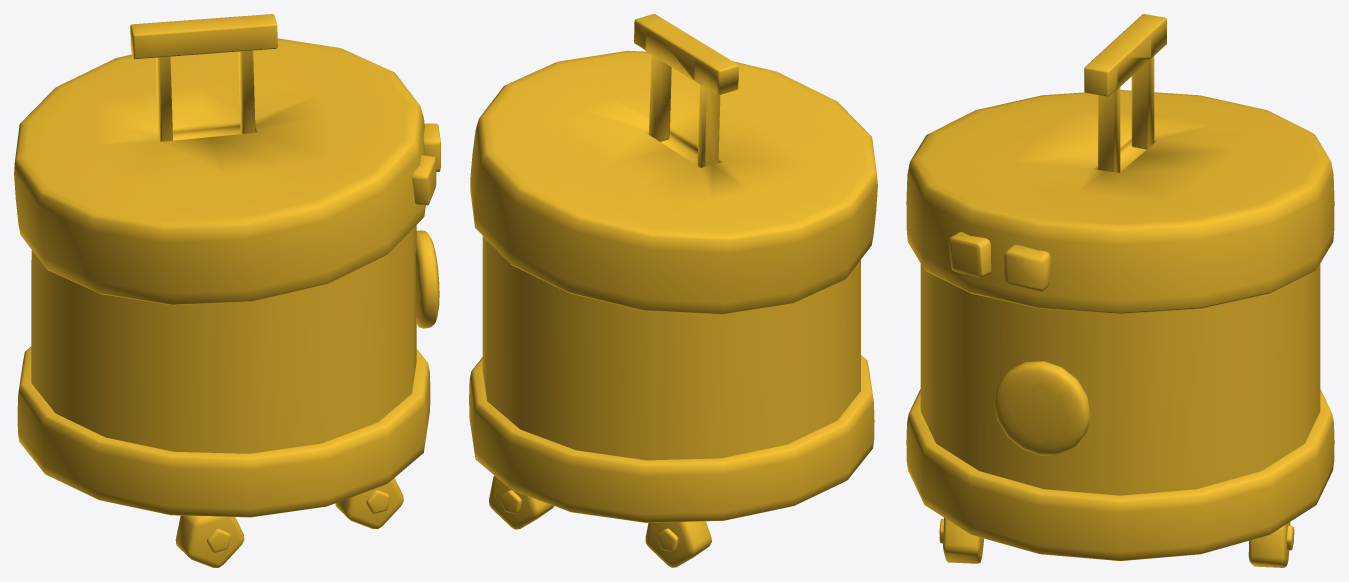
Rendered from aspi_low.fbx.
The picture shows the model from 3 angles, left to right: view 1: azimuth 30°, elevation 25°; view 2: azimuth 150°, elevation 25°; view 3: azimuth 270°, elevation 25°; orthographic projection. The views are drawn at different scales.
Visible parts, largest first — view 1: aspi_low; view 2: aspi_low; view 3: aspi_low.
Part boxes in pixels (box(x1,y1,x2,y2)): aspi_low: box(14, 14, 440, 567); aspi_low: box(469, 14, 877, 567); aspi_low: box(906, 14, 1334, 567).
Bounding box in the file's own units: 183 × 222 × 180.
